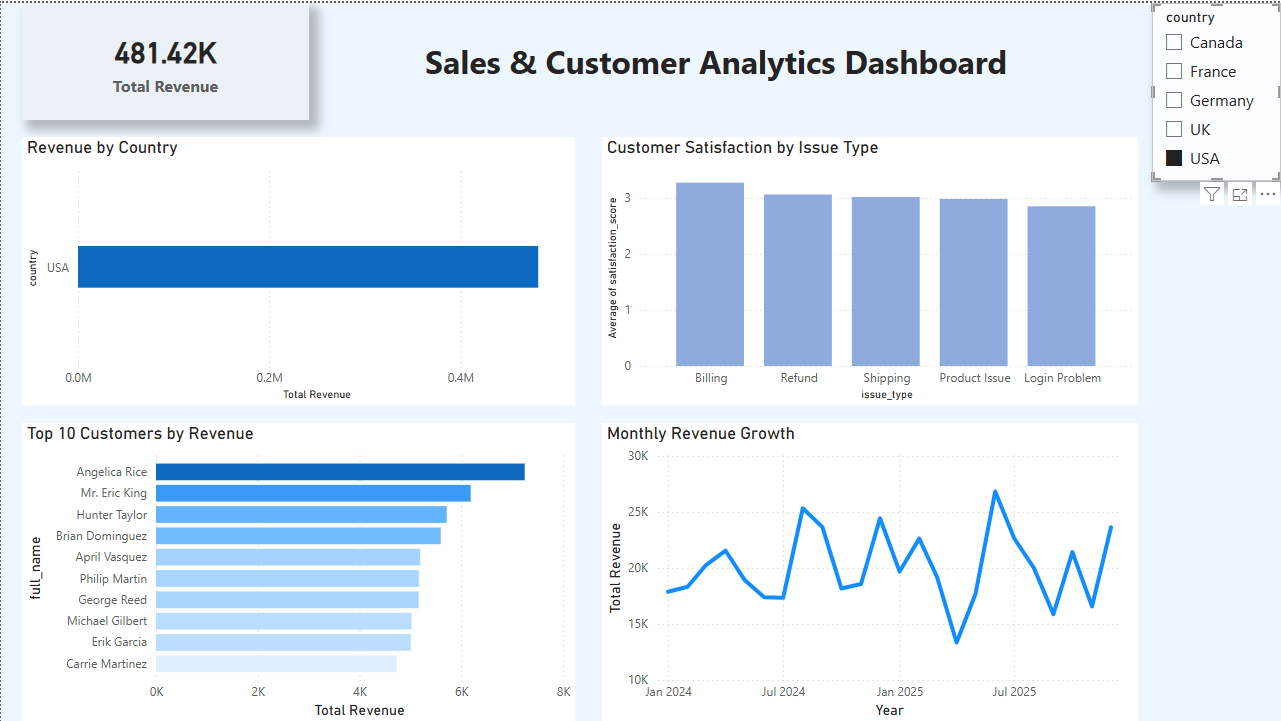

Layout of this report page (visuals, bound fields, positions):
{"tool":"powerbi","page":{"name":"Dashboard","canvas":[1280,720],"ordinal":0},"visuals":[{"type":"card","fields":{"Values":["public orders.Total Revenue"]},"box":[20.6,0,287.2,117.2],"z":0},{"type":"clusteredBarChart","title":"Revenue by Country","fields":{"Category":["public customers.country"],"Y":["public orders.Total Revenue"]},"box":[20.6,133.9,553.7,267.8],"z":1000},{"type":"lineChart","title":"Monthly Revenue Growth","fields":{"Category":["public orders.order_date.Variation.Date Hierarchy.Year","public orders.order_date.Variation.Date Hierarchy.Month"],"Y":["public orders.Total Revenue"]},"box":[601.4,419.8,535.7,300],"z":2000},{"type":"clusteredBarChart","title":"Top 10 Customers by Revenue","fields":{"Y":["public orders.Total Revenue"],"Category":["public customers.full_name"]},"box":[20.6,419.8,553.7,300],"z":3000},{"type":"clusteredColumnChart","title":"Customer Satisfaction by Issue Type","fields":{"Category":["public support_tickets.issue_type"],"Y":["Avg(public support_tickets.satisfaction_score)"]},"box":[601.4,133.9,535.7,267.8],"z":4000},{"type":"textbox","box":[418.5,30.9,607.8,68.2],"z":5000},{"type":"slicer","fields":{"Values":["public customers.country"]},"box":[1151.2,0,128.8,177.7],"z":6000}]}

Visuals, with their boxes in screenshot pixels (x1, y1, x2, y2), scaled from the page's 1280x720 canvas onto the 1281x721 screenshot:
card - public orders.Total Revenue: Rect(21, 0, 308, 117)
"Revenue by Country" clusteredBarChart: Rect(21, 134, 575, 402)
"Monthly Revenue Growth" lineChart: Rect(602, 420, 1138, 720)
"Top 10 Customers by Revenue" clusteredBarChart: Rect(21, 420, 575, 720)
"Customer Satisfaction by Issue Type" clusteredColumnChart: Rect(602, 134, 1138, 402)
textbox: Rect(419, 31, 1027, 99)
slicer - public customers.country: Rect(1152, 0, 1280, 178)
